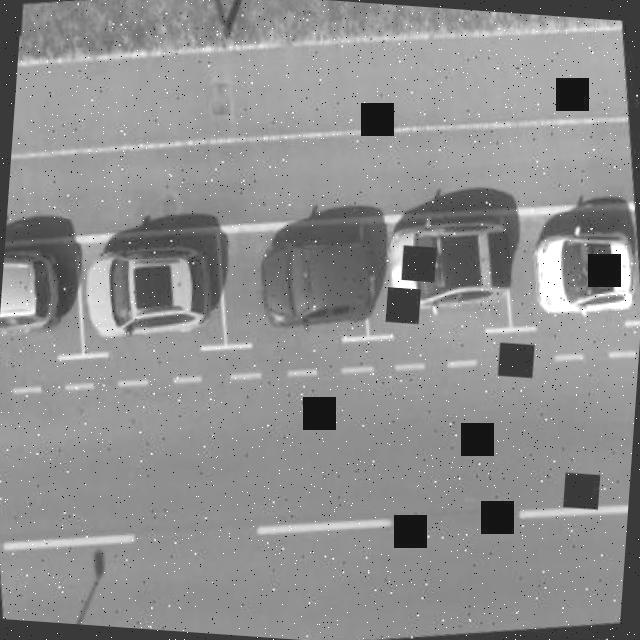car: (378, 206, 523, 318), (256, 222, 388, 336), (83, 245, 223, 343), (529, 219, 640, 324), (0, 242, 74, 345)
